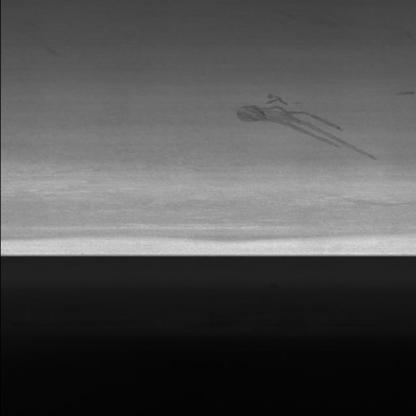water_spot: (227, 89, 389, 166)
